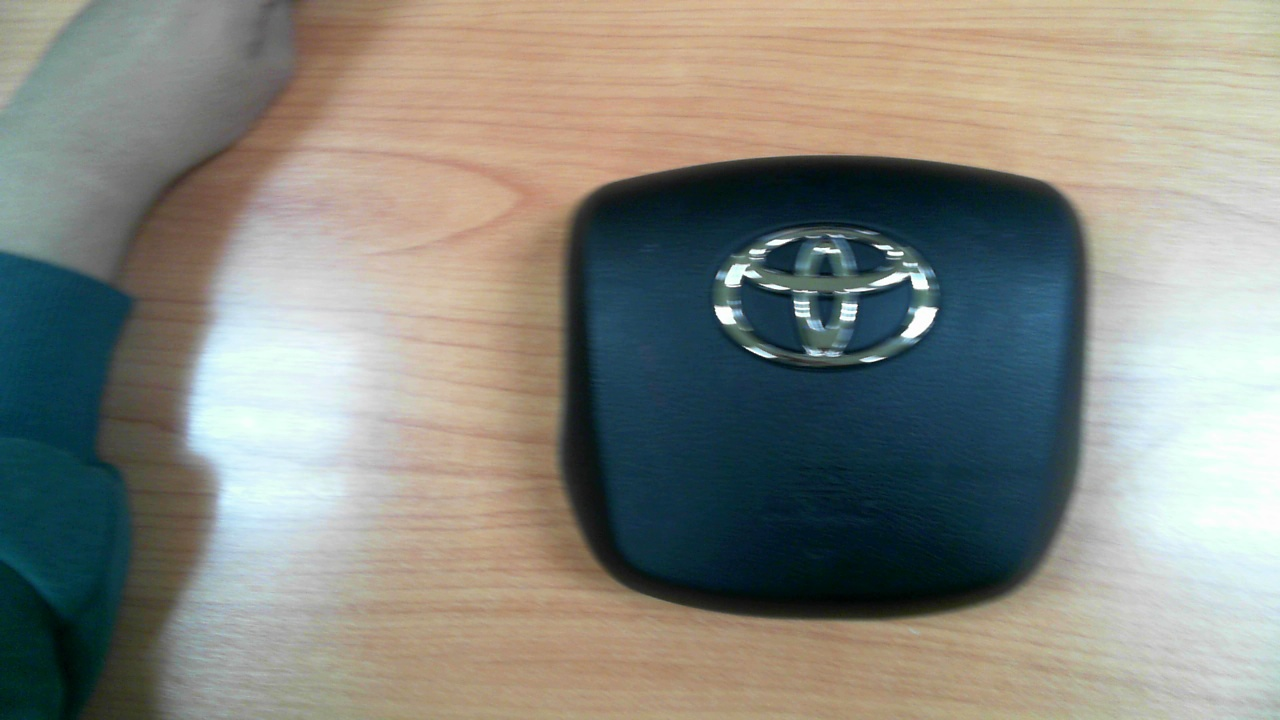Airbag: (551, 159, 1097, 613)
Toyota: (712, 225, 941, 368)
